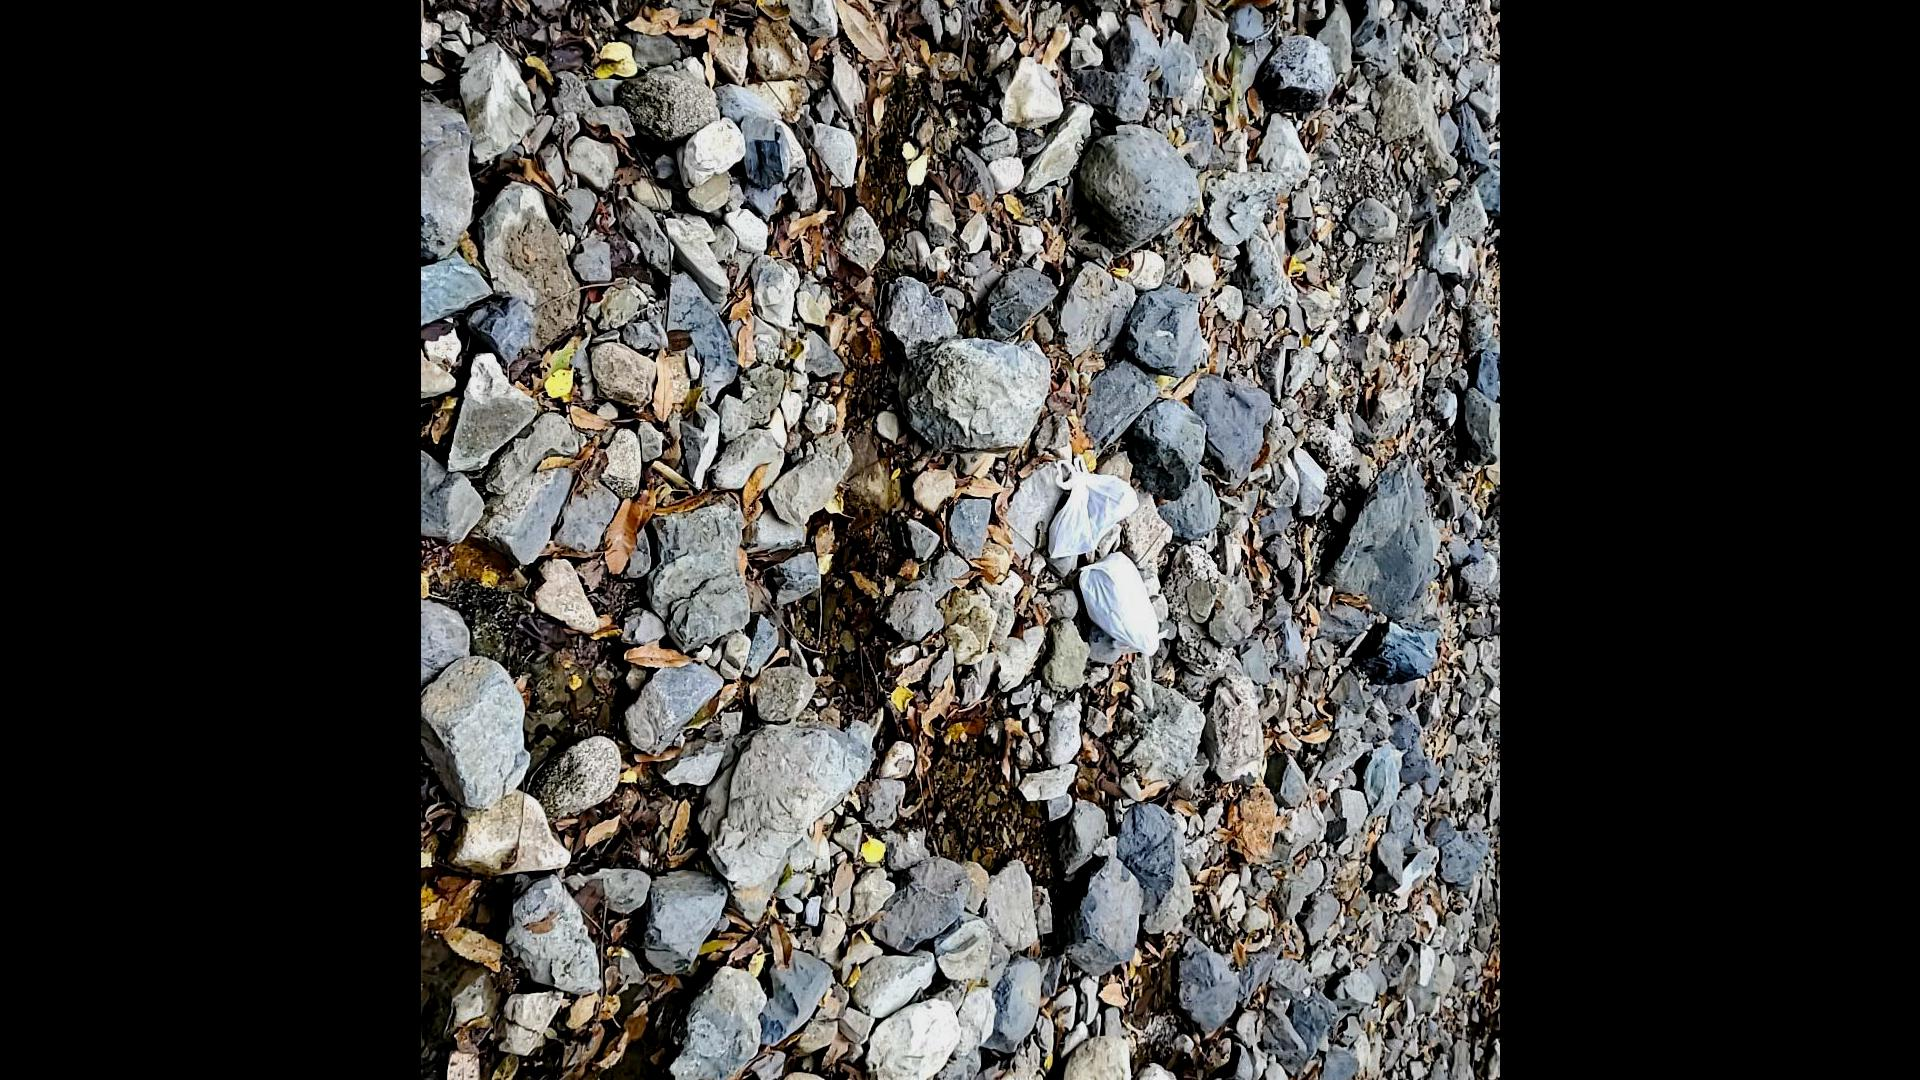white_bag: (1040, 454, 1142, 564), (1076, 549, 1174, 658)
